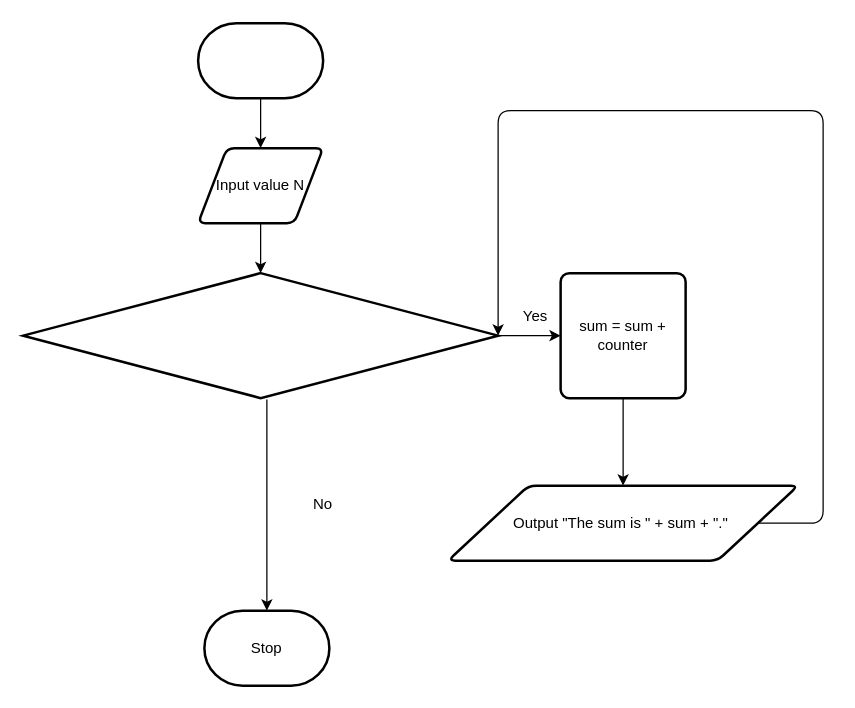
The diagram is 855 pixels wide and 708 high, and some of its shapes have lost their labels. The shapes that lost their labels are listed below. From the top down, each one's centre as x and y in pixels, then its label:
At point 260,60: "Start".
At point 260,335: "for (let loop = 0; loop < numN; loop++)".
